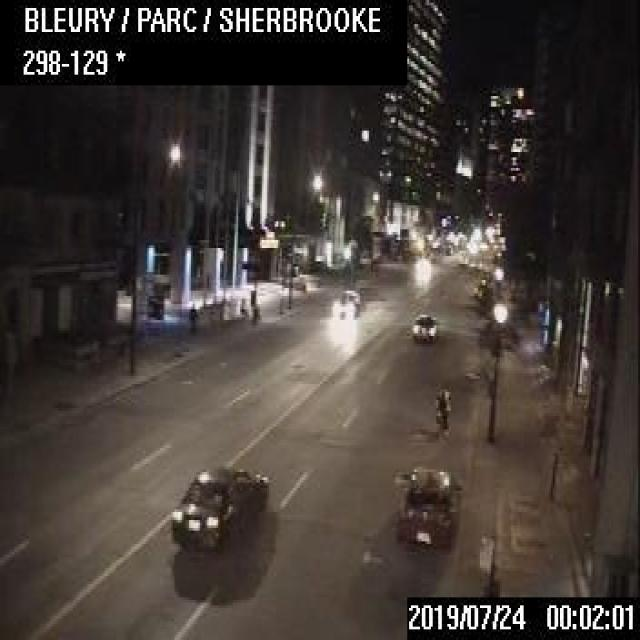cyclist: (433, 383, 449, 434)
vehicle: (169, 463, 269, 552), (394, 461, 462, 552), (329, 286, 362, 318), (411, 309, 436, 342)
